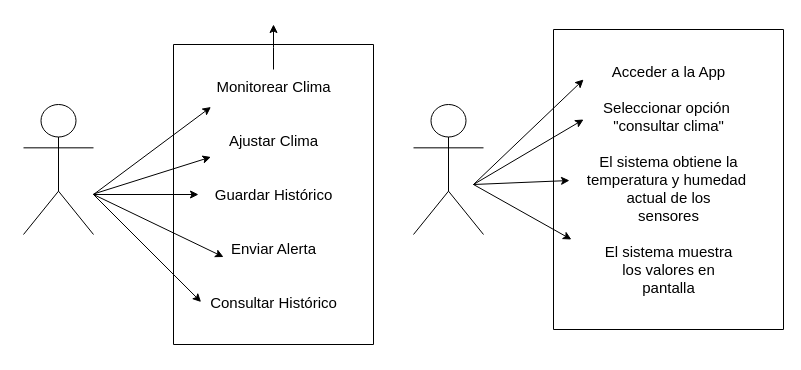
This 801x370 diagram has some shape labels left out. Here are the shapes that lost their labels. From the top down, the centre of each, then its label:
At (58,169): "Administrador Data Center".
At (448,169): "Usuario Aplicación Clima".
